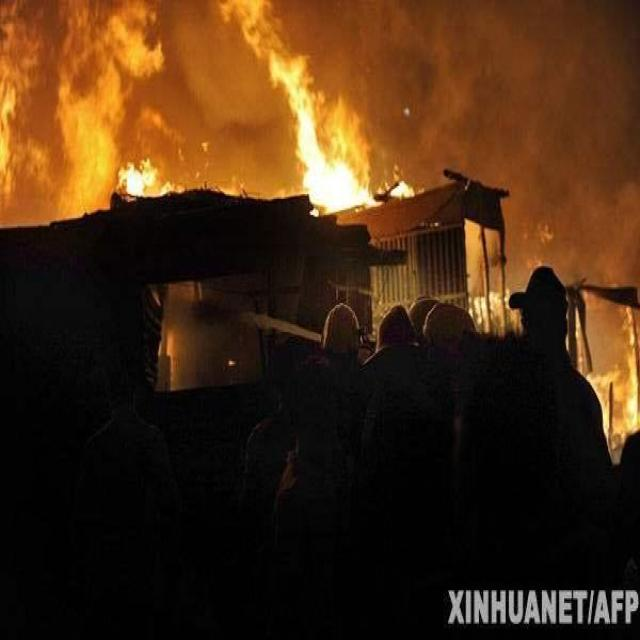fire: (4, 6, 415, 211), (573, 282, 638, 451), (157, 318, 179, 386)
